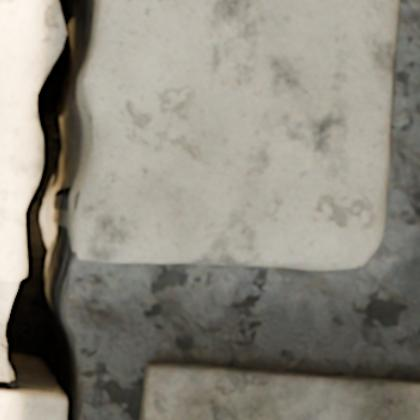brick: (142, 364, 419, 419), (0, 390, 66, 419)
broken_brick: (79, 0, 400, 271), (0, 0, 64, 283)
crack: (0, 0, 103, 419)
